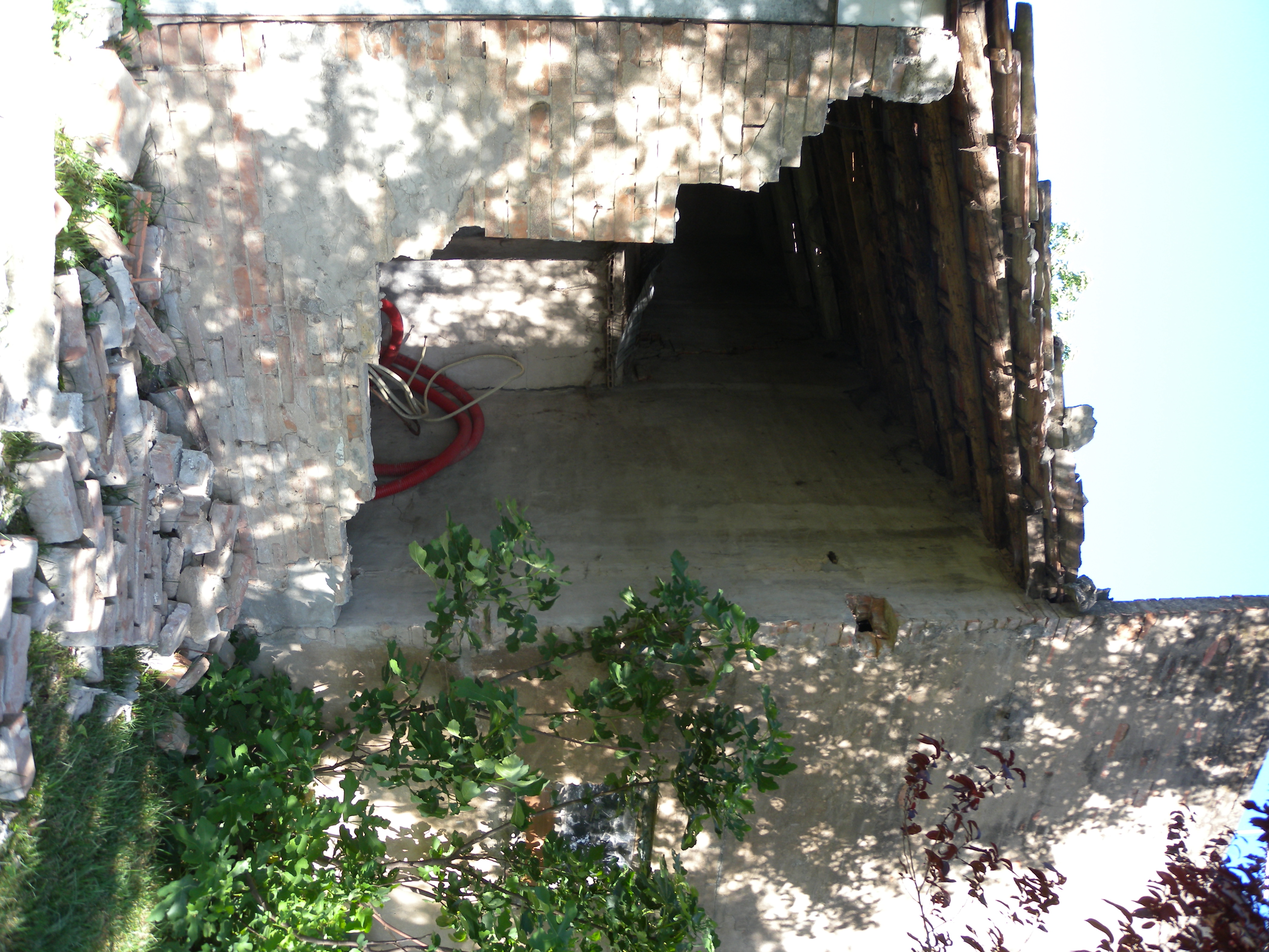Other damage/mechanism: (232, 68, 1016, 629)
